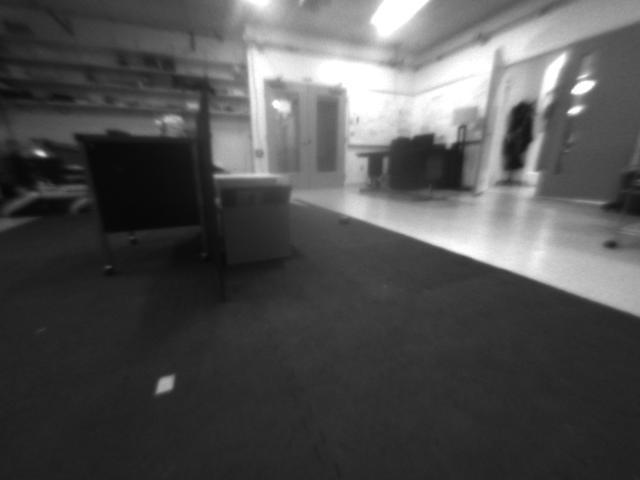dogtoy: (327, 211, 356, 228)
